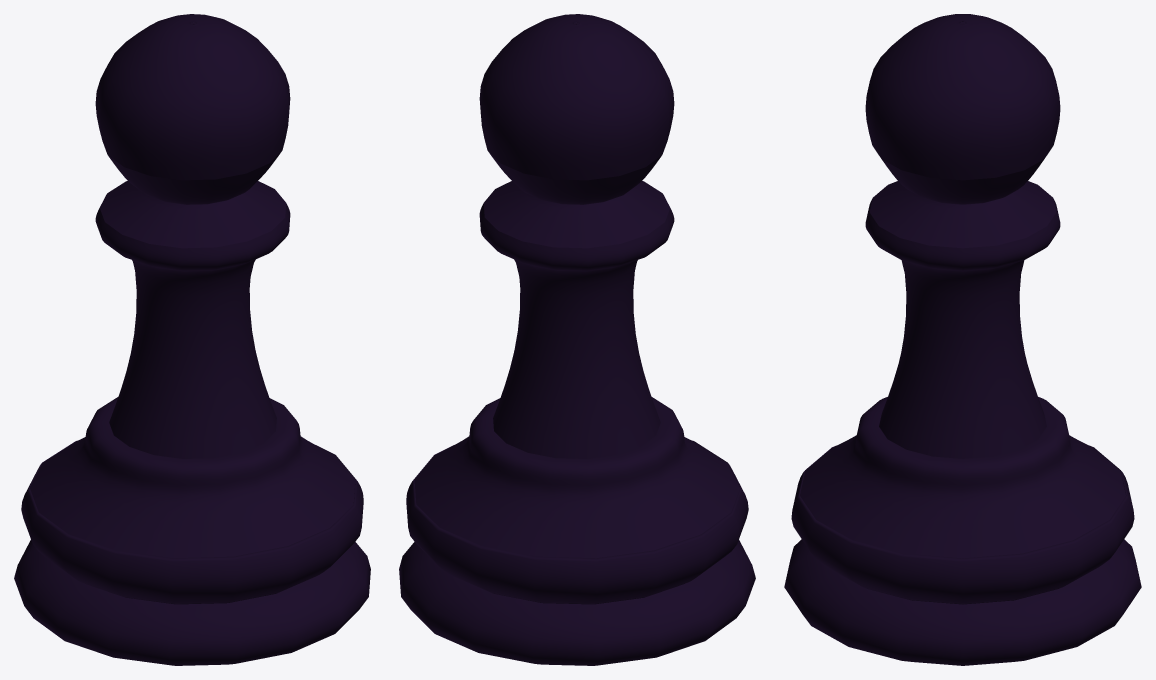
The model's file is chess.glb.
The picture shows the model from 3 angles, left to right: view 1: azimuth 30°, elevation 25°; view 2: azimuth 150°, elevation 25°; view 3: azimuth 270°, elevation 25°; orthographic projection.
Visible parts, largest first — view 1: Line001; view 2: Line001; view 3: Line001.
Part boxes in pixels (x1,y1,x2,y2): Line001: [14, 14, 370, 665]; Line001: [399, 14, 755, 665]; Line001: [784, 14, 1141, 665].
Bounding box in the file's own units: 26.92 × 49.52 × 27.03.
